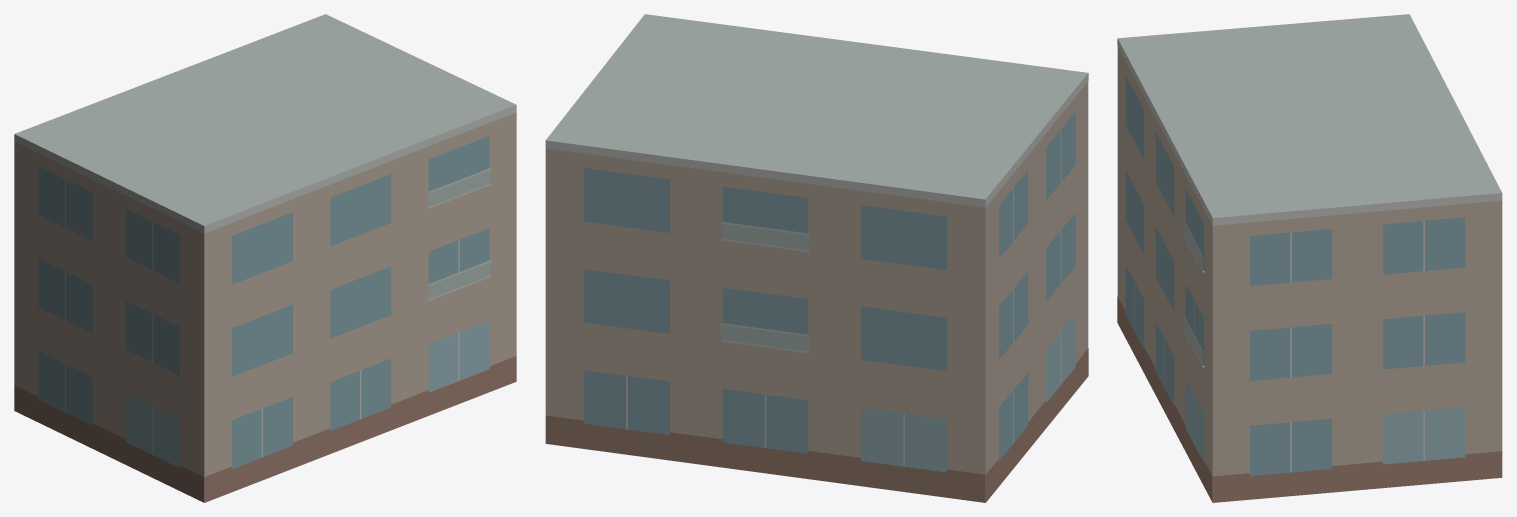
Rendered from survey-upis-32911089.glb.
3 renders of one model, left to right at view 1: azimuth 30°, elevation 25°; view 2: azimuth 150°, elevation 25°; view 3: azimuth 270°, elevation 25°, orthographic. The views are drawn at different scales.
Parts seen in each view (by area): view 1: survey-upis-32911089.tmp; view 2: survey-upis-32911089.tmp; view 3: survey-upis-32911089.tmp.
Boxes of the visible parts, x1,y1,x2,y2 form: survey-upis-32911089.tmp: (14, 14, 516, 502); survey-upis-32911089.tmp: (545, 14, 1088, 502); survey-upis-32911089.tmp: (1117, 14, 1502, 502).
Size of the model in its own units: 14.08 by 9.15 by 11.22.
